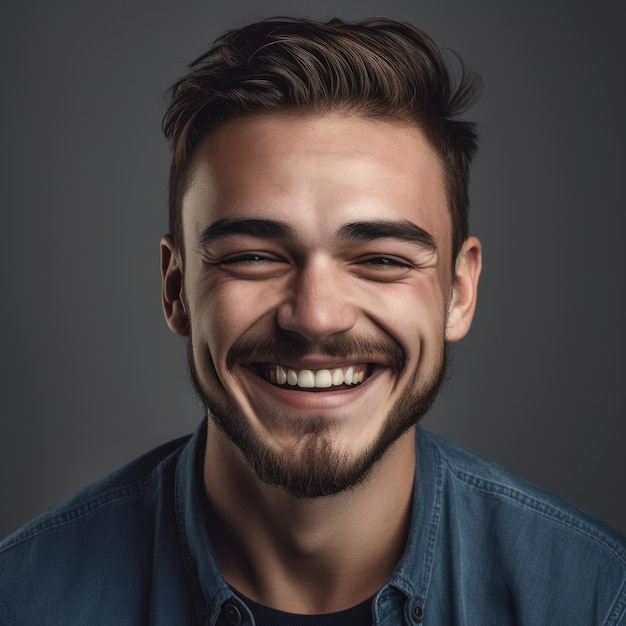young: (140, 36, 504, 481)
